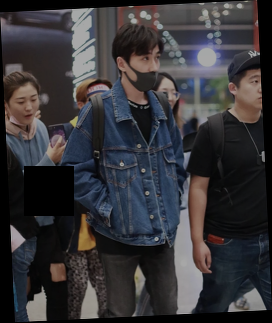mask_weared_incorrect: (128, 50, 165, 93), (10, 91, 41, 126)
without_mask: (239, 74, 262, 110), (157, 78, 177, 110)
